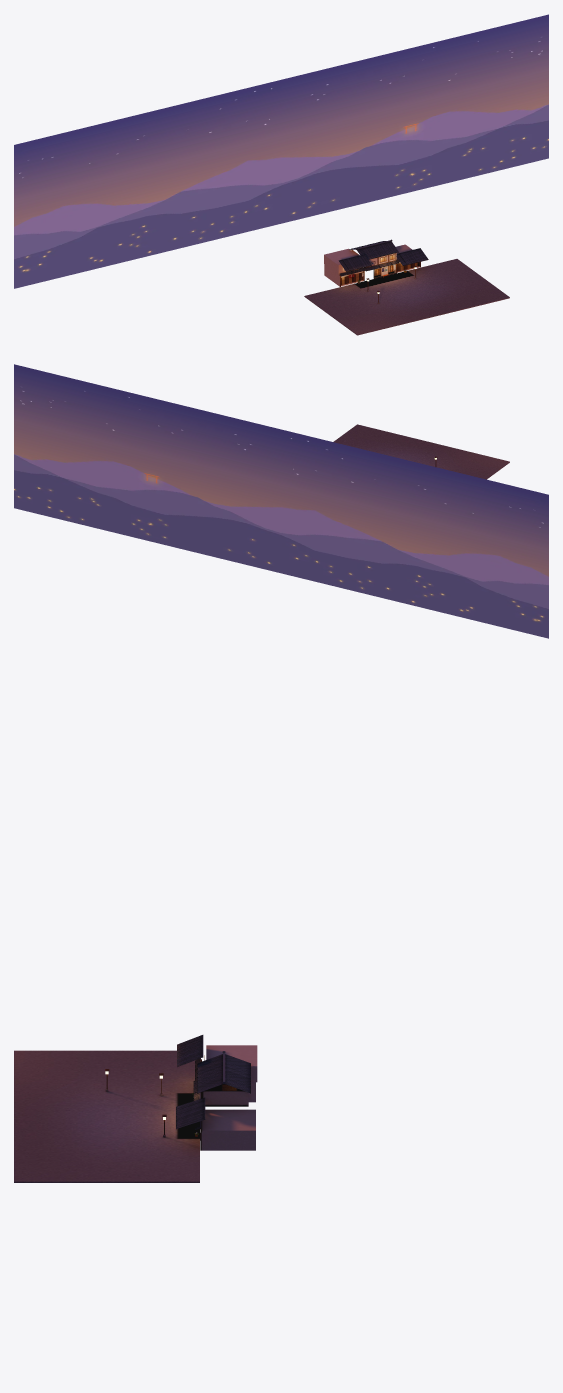
The model's file is exterior.glb.
3 renders of one model, top to bottom at view 1: azimuth 30°, elevation 25°; view 2: azimuth 150°, elevation 25°; view 3: azimuth 270°, elevation 25°, orthographic. The views are drawn at different scales.
Visible parts, largest first — view 1: backdrop, baked.plaza, baked.roofs, baked.neighbor_left; view 2: backdrop, baked.plaza; view 3: baked.plaza, baked.roofs, baked.neighbor_right, baked.neighbor_left.
Part boxes in pixels (bbox=[...]): backdrop: bbox=[14, 14, 548, 288]; baked.plaza: bbox=[304, 259, 509, 335]; baked.roofs: bbox=[338, 239, 428, 276]; baked.neighbor_left: bbox=[324, 248, 364, 286]; backdrop: bbox=[14, 364, 548, 638]; baked.plaza: bbox=[333, 424, 509, 479]; baked.plaza: bbox=[14, 1050, 199, 1182]; baked.roofs: bbox=[176, 1035, 250, 1130]; baked.neighbor_right: bbox=[194, 1109, 255, 1150]; baked.neighbor_left: bbox=[193, 1045, 257, 1102].
Bounding box in the file's own units: 140 × 36 × 69.
Materials: 11 (10 with a texture image).
